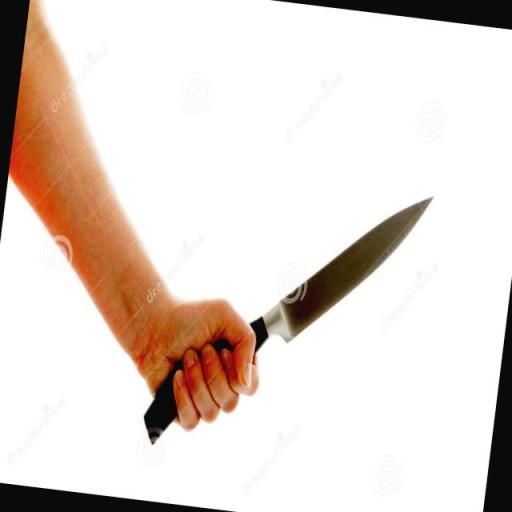knife: (183, 162, 441, 436)
